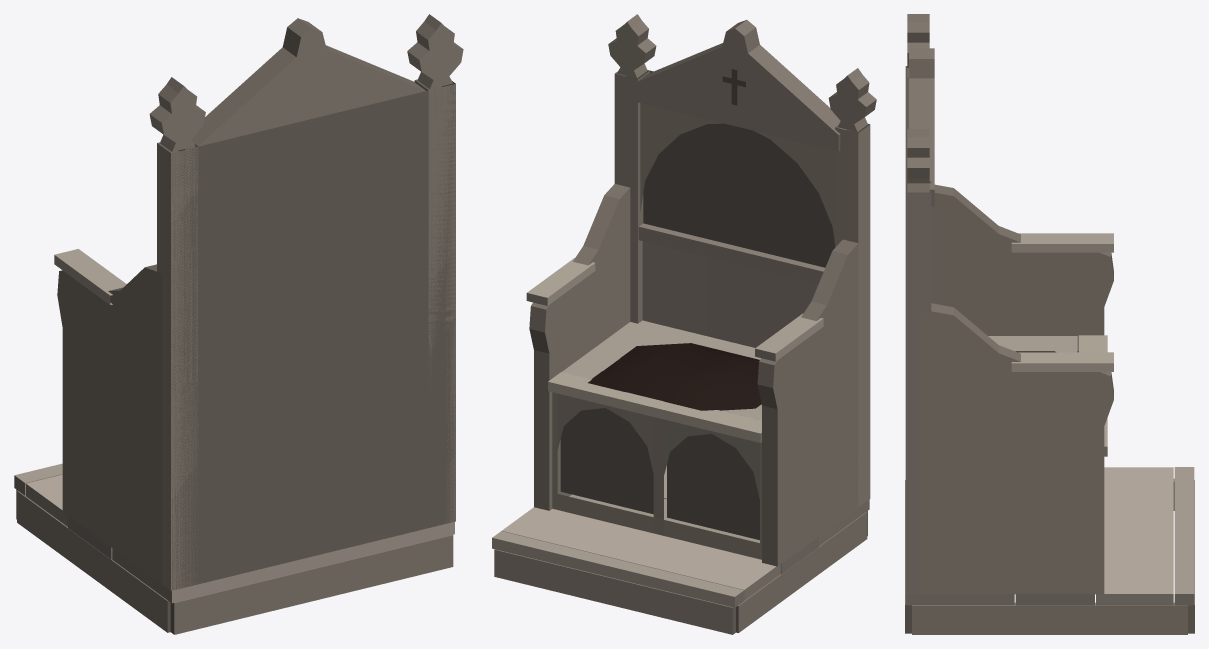
The model's file is prop_abbot_seat.glb.
3 renders of one model, left to right at view 1: azimuth 30°, elevation 25°; view 2: azimuth 150°, elevation 25°; view 3: azimuth 270°, elevation 25°, orthographic. The views are drawn at different scales.
Parts seen in each view (by area): view 1: AbbotSeat; view 2: AbbotSeat, AbbotSeatSoft; view 3: AbbotSeat.
Part boxes in pixels (x1,y1,x2,y2): AbbotSeat: (14, 14, 463, 634); AbbotSeat: (492, 14, 876, 634); AbbotSeatSoft: (588, 343, 761, 410); AbbotSeat: (905, 14, 1194, 634).
Size of the model in its own units: 0.9956 by 1.8 by 0.904.
